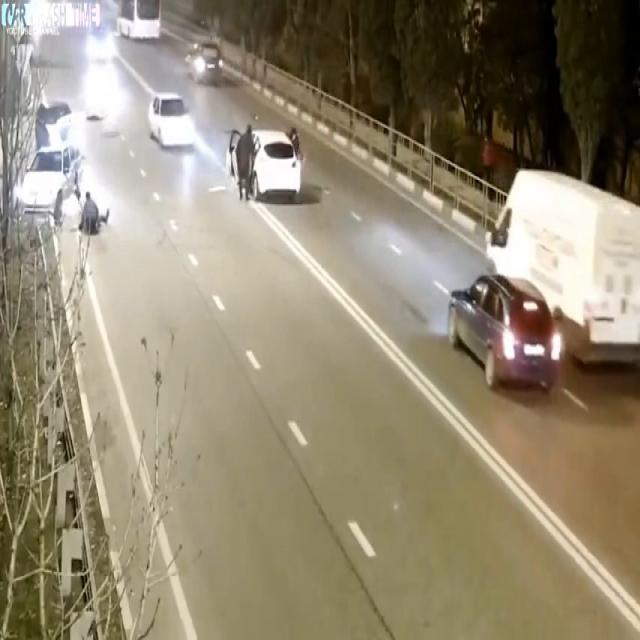Accident: (18, 109, 98, 282)
